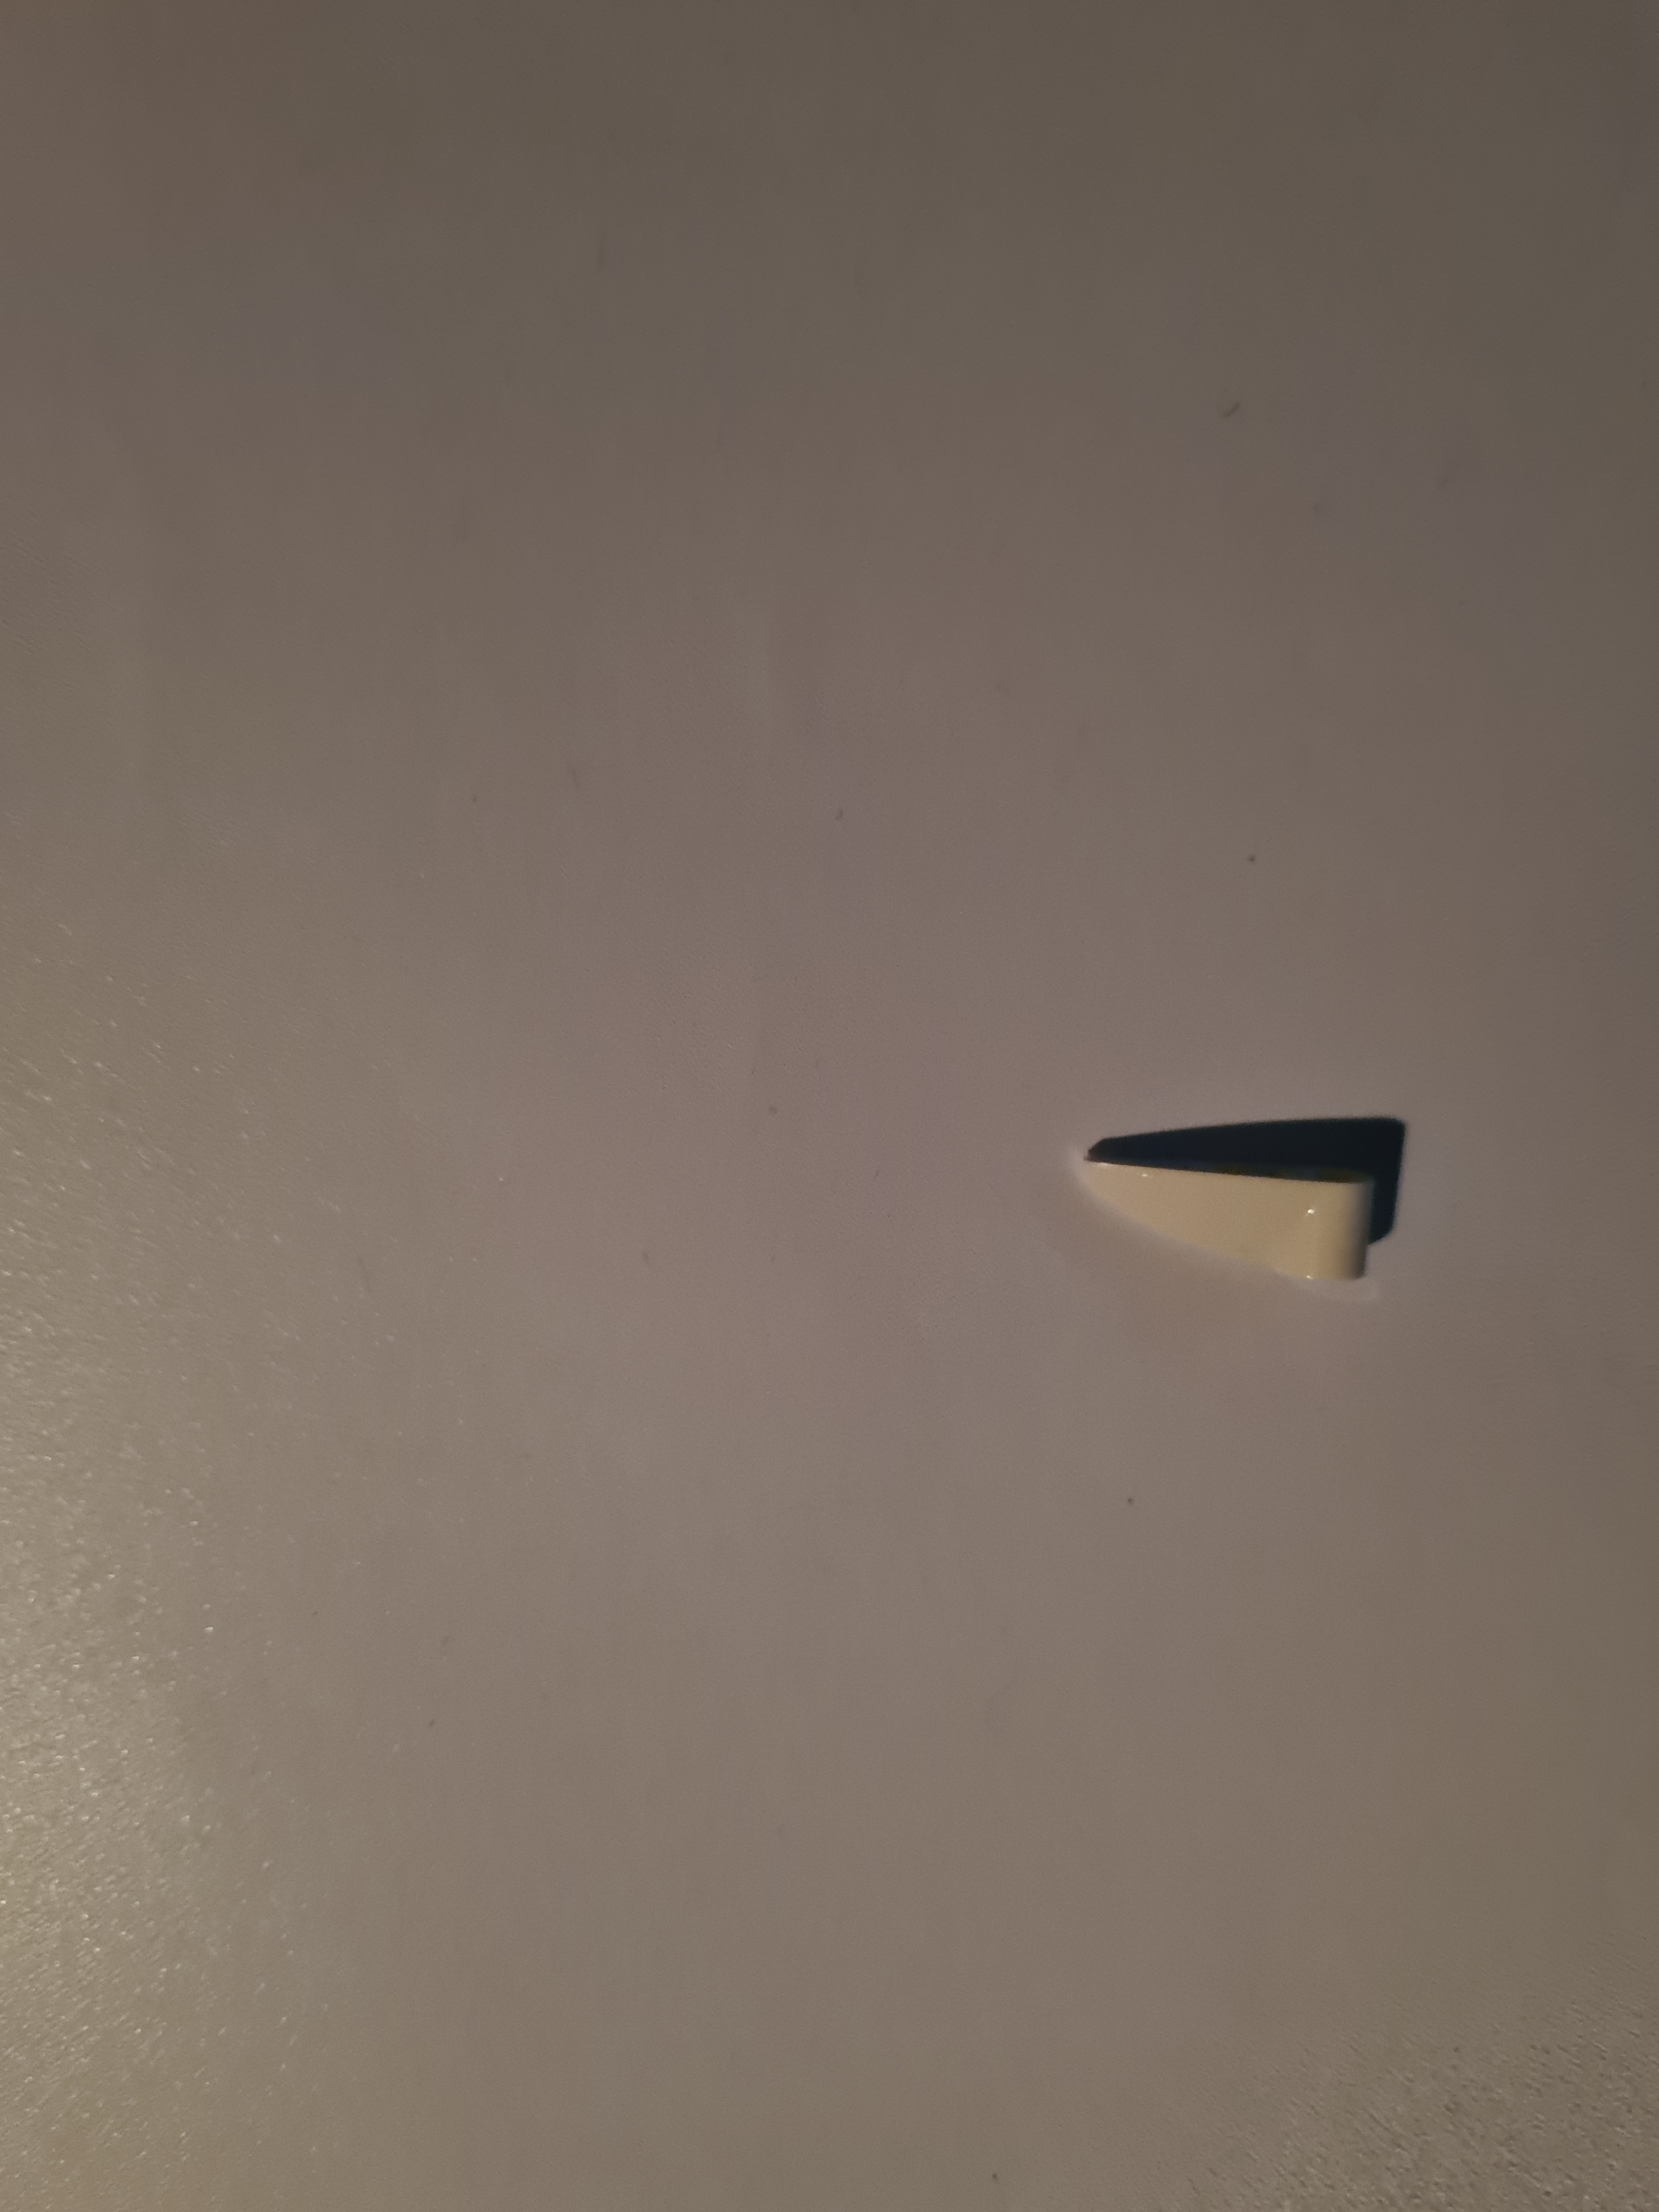Kappe: (1058, 1127, 1389, 1313)
